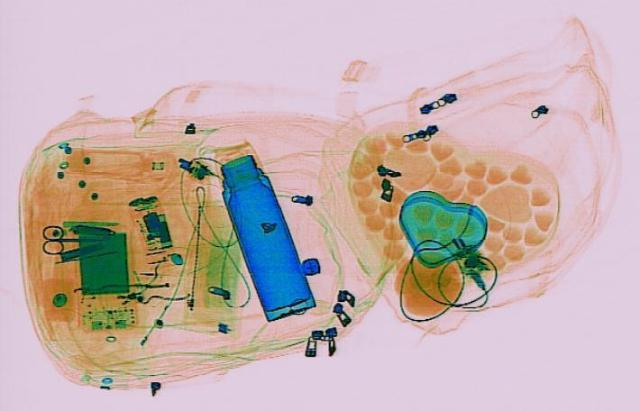Scissors: (38, 223, 100, 251)
